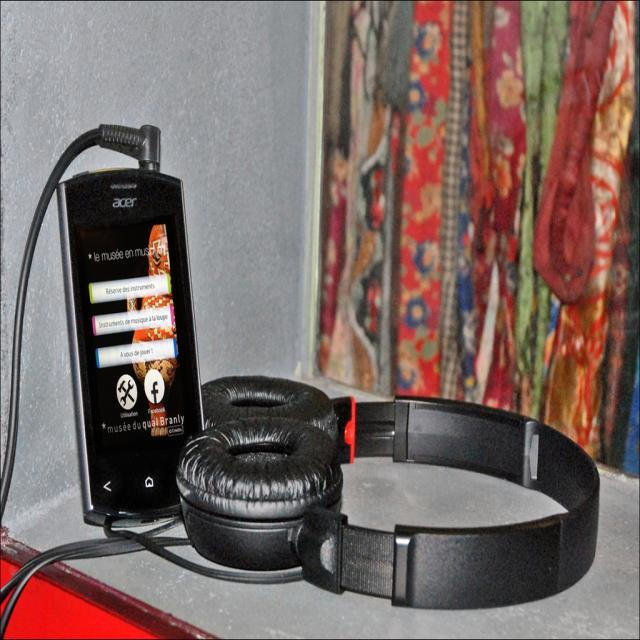Mobile-phone: (56, 166, 206, 535)
